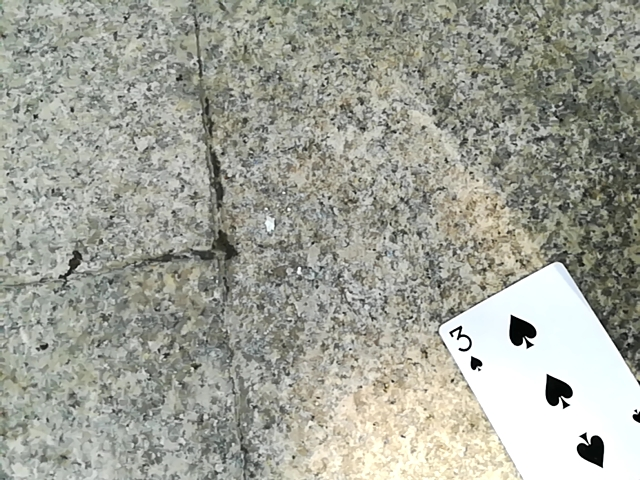ht 3: (432, 270, 636, 480)
